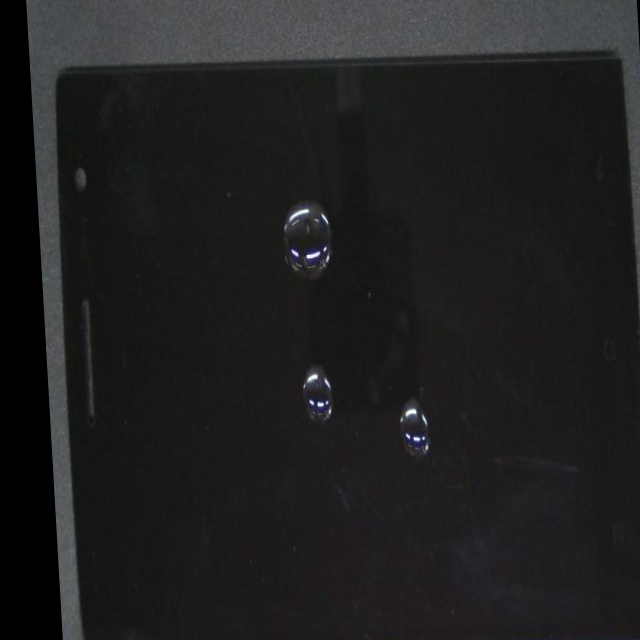oil: (227, 153, 595, 634), (150, 147, 437, 604), (147, 74, 411, 385)
